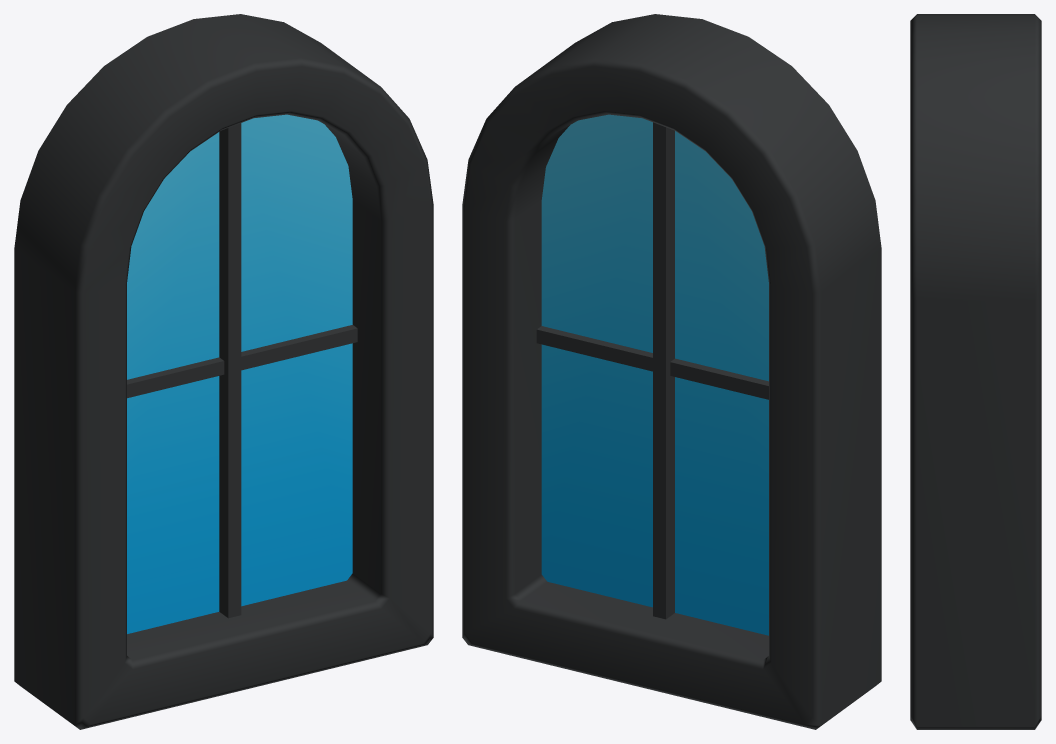
The model's file is Window_Black_15.glb.
3 views of the same model, side by side, from view 1: azimuth 30°, elevation 25°; view 2: azimuth 150°, elevation 25°; view 3: azimuth 270°, elevation 25° (orthographic).
Parts seen in each view (by area): view 1: Window_Black_15; view 2: Window_Black_15; view 3: Window_Black_15.
Part boxes in pixels (left/top/right/bottom): Window_Black_15: left=14, top=14, right=433, bottom=729; Window_Black_15: left=462, top=14, right=881, bottom=729; Window_Black_15: left=910, top=14, right=1041, bottom=729.
Bounding box in the file's own units: 1.24 × 2.07 × 0.4.
Materials: 2 (2 with a texture image).
